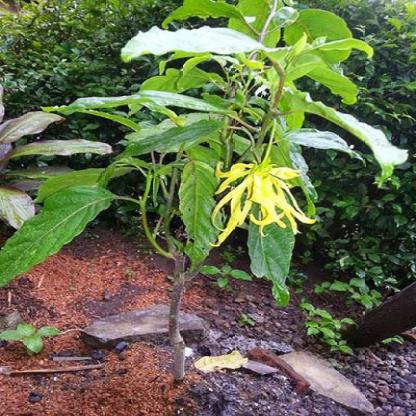Kenanga: (220, 153, 311, 234)
